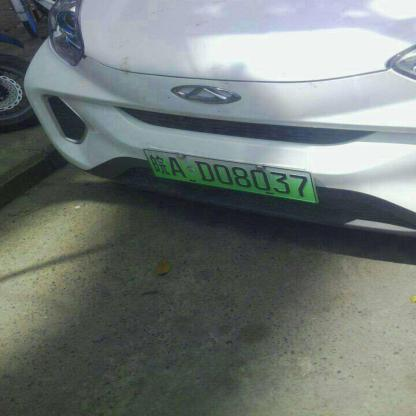lp: (142, 148, 317, 202)
